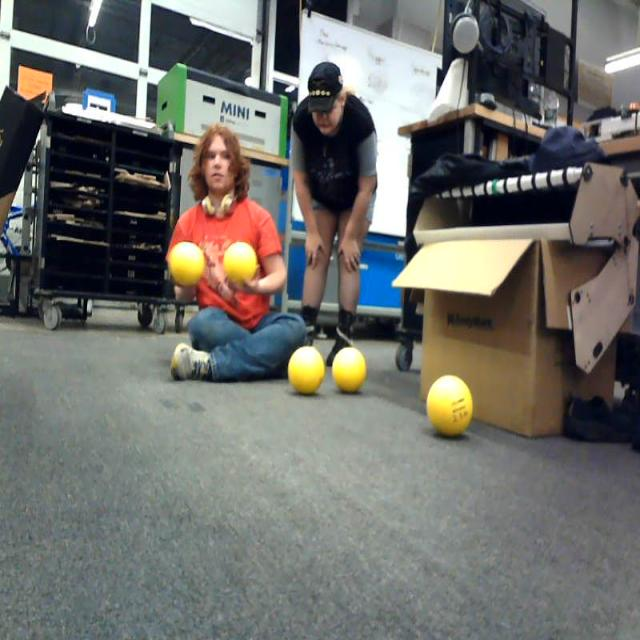Fuel: (427, 375, 473, 437), (288, 346, 324, 395), (332, 347, 366, 393), (170, 242, 205, 285), (224, 241, 256, 285)
